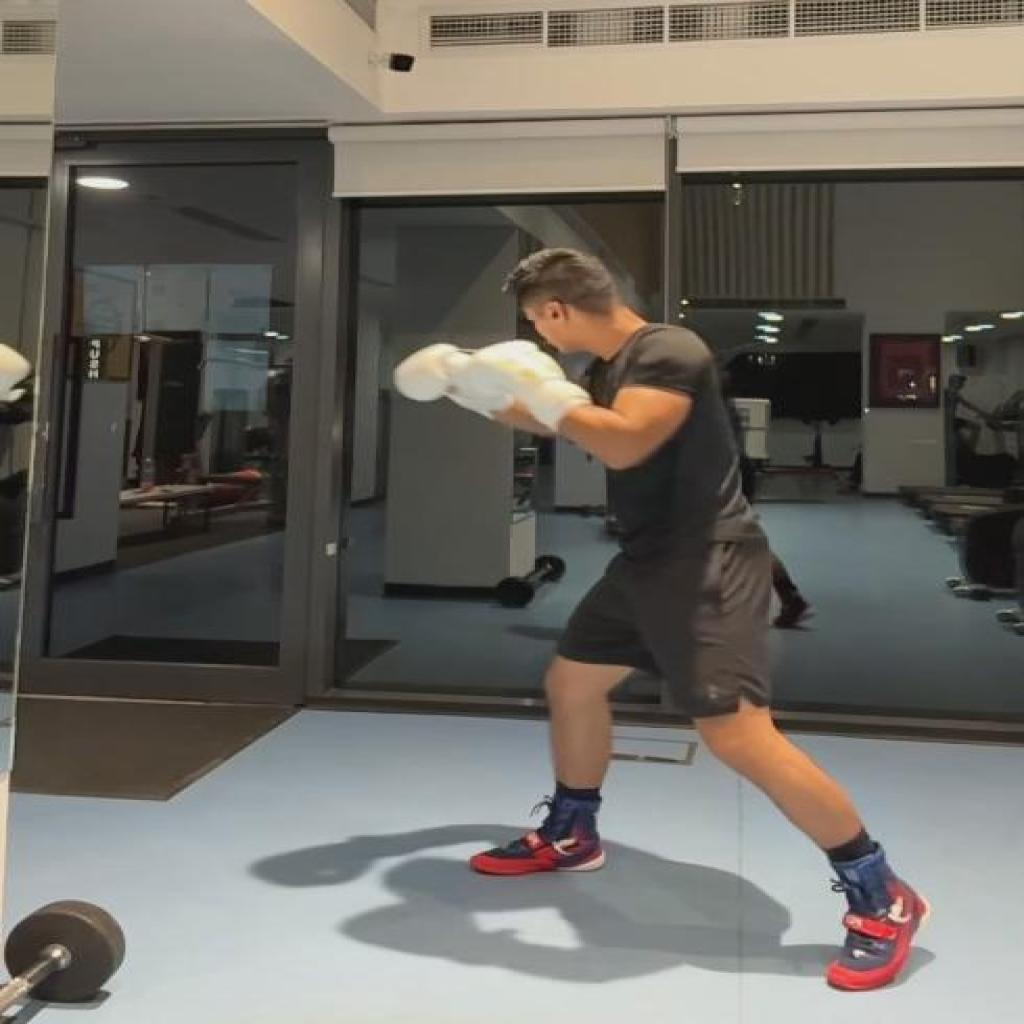no punch: (391, 248, 936, 992)
